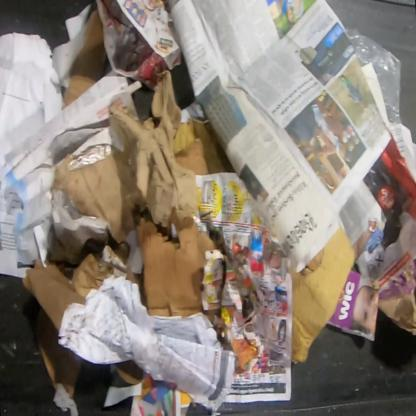cardboard: (48, 68, 198, 244), (20, 240, 146, 400), (288, 226, 360, 366), (135, 208, 221, 318), (62, 6, 107, 109), (174, 116, 228, 176), (113, 359, 143, 385)
soft_plastic: (343, 24, 403, 126), (68, 144, 114, 170)
